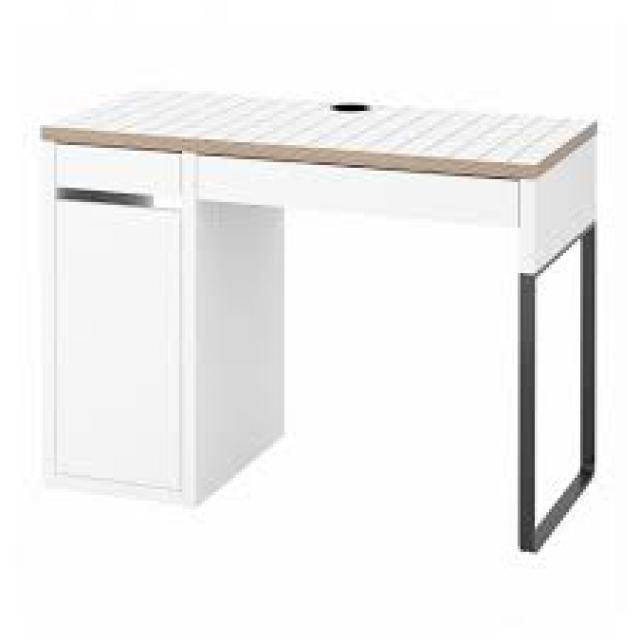Table: (31, 72, 612, 560)
